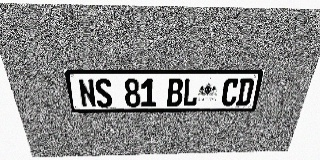1: (140, 78, 156, 107)
8: (124, 78, 140, 107)
B: (167, 78, 183, 107)
C: (220, 78, 240, 106)
D: (235, 78, 255, 106)
L: (182, 78, 199, 106)
N: (77, 79, 97, 108)
S: (94, 78, 113, 107)
